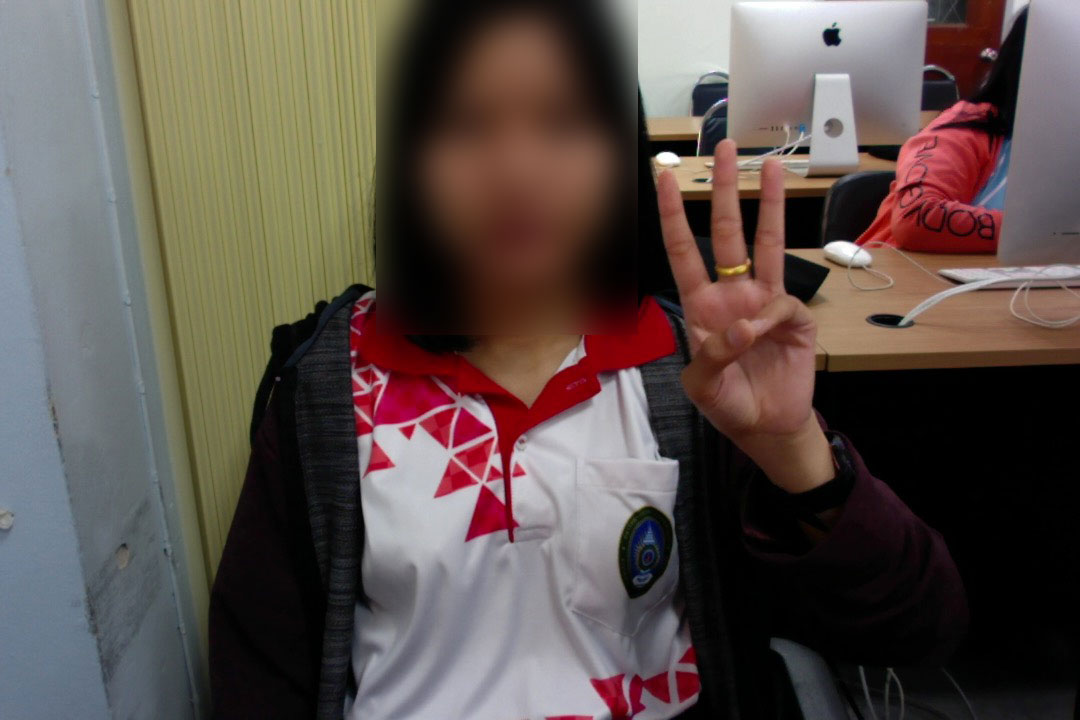wor: (642, 134, 834, 451)
